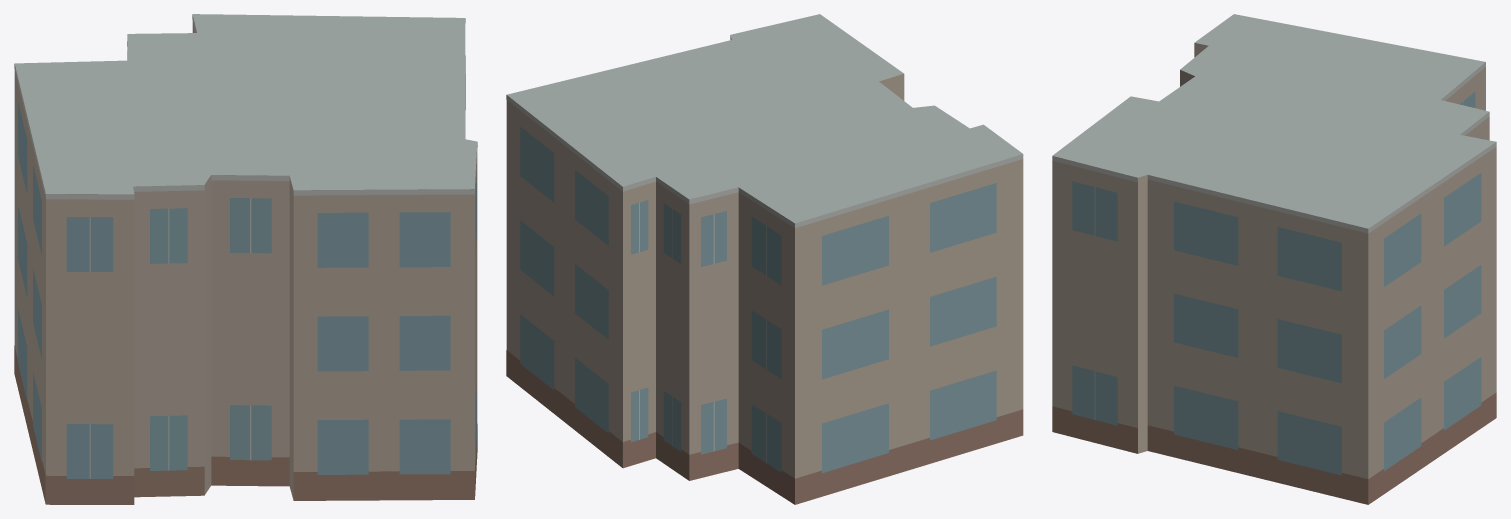
File: survey-upis-32507879.glb
3 renders of one model, left to right at view 1: azimuth 30°, elevation 25°; view 2: azimuth 150°, elevation 25°; view 3: azimuth 270°, elevation 25°, orthographic. The views are drawn at different scales.
Visible parts, largest first — view 1: survey-upis-32507879.tmp; view 2: survey-upis-32507879.tmp; view 3: survey-upis-32507879.tmp.
Boxes of the visible parts, bbox=[...] form: survey-upis-32507879.tmp: bbox=[14, 14, 477, 504]; survey-upis-32507879.tmp: bbox=[506, 14, 1023, 504]; survey-upis-32507879.tmp: bbox=[1052, 14, 1496, 504].
Size of the model in its own units: 23.52 by 14.1 by 20.57.
